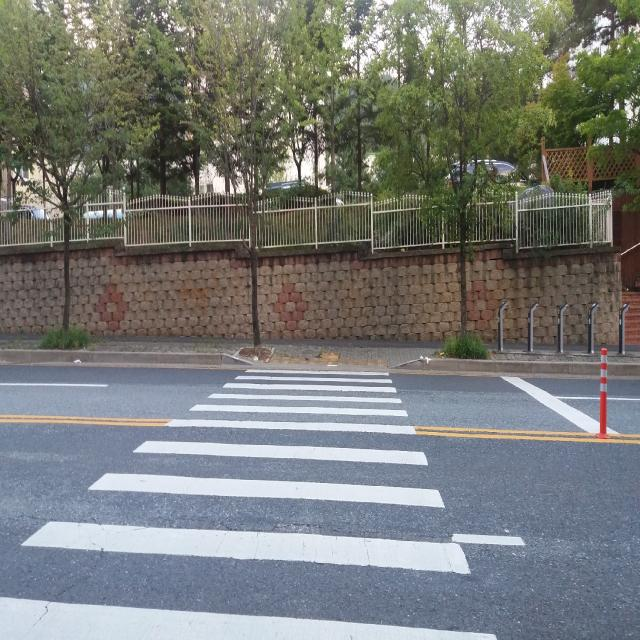횡단보도: (0, 368, 496, 640)
